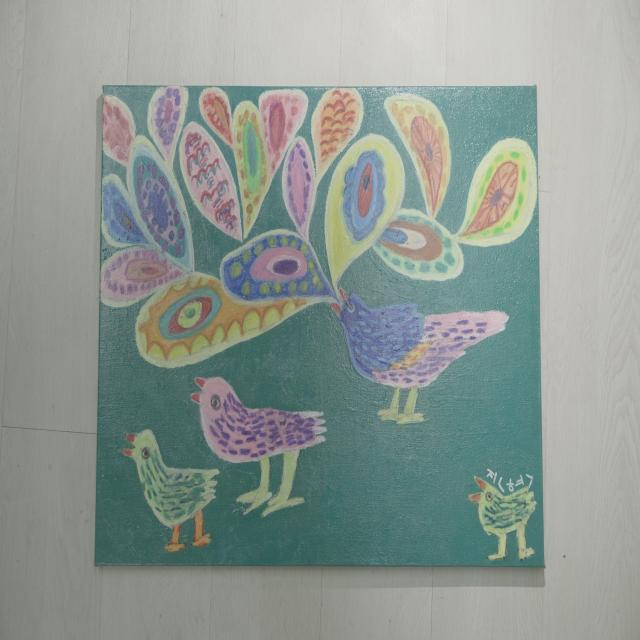painting: (95, 86, 543, 566)
